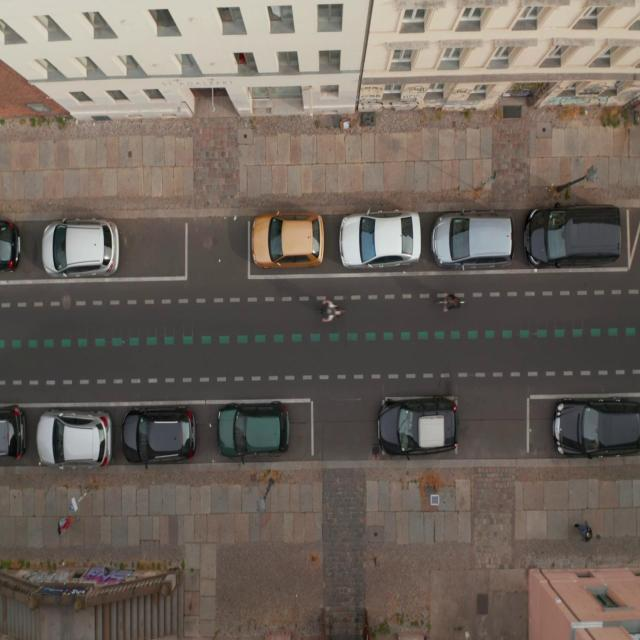Car: (550, 393, 640, 460), (377, 396, 459, 464), (339, 204, 422, 270), (429, 207, 515, 270), (41, 216, 120, 282), (36, 408, 115, 471), (121, 406, 198, 469), (216, 401, 290, 465), (251, 209, 324, 270), (0, 403, 27, 463), (0, 216, 23, 276)
Cycle: (316, 306, 348, 318), (433, 298, 466, 308)
Van: (523, 202, 622, 269)
